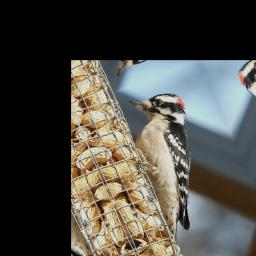Woodpecker: (111, 84, 237, 244)
